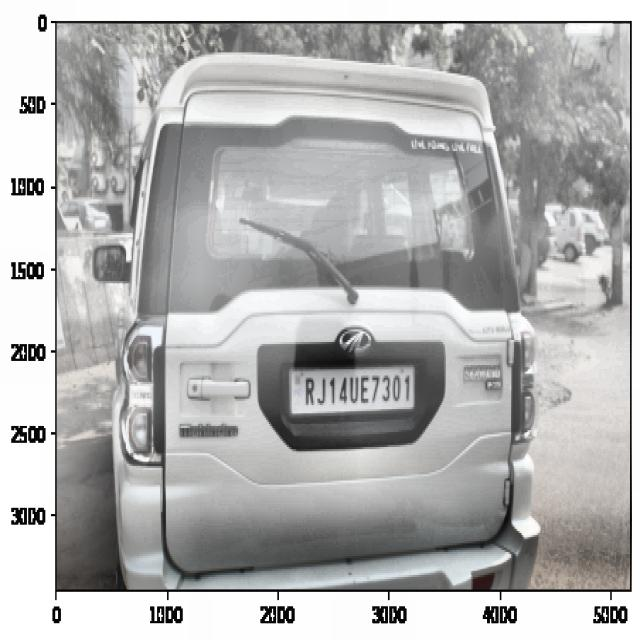license_plate: (297, 367, 416, 415)
